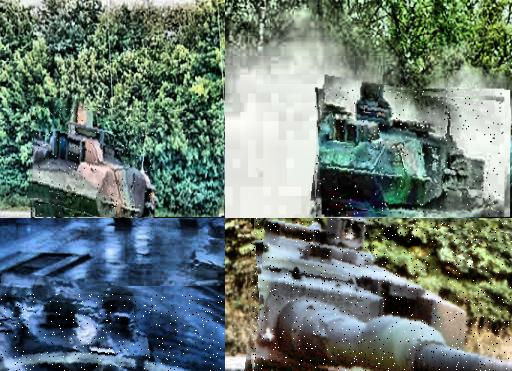tanks: (254, 219, 512, 371), (316, 89, 505, 217), (32, 106, 156, 219), (1, 295, 155, 371), (159, 227, 226, 319)
